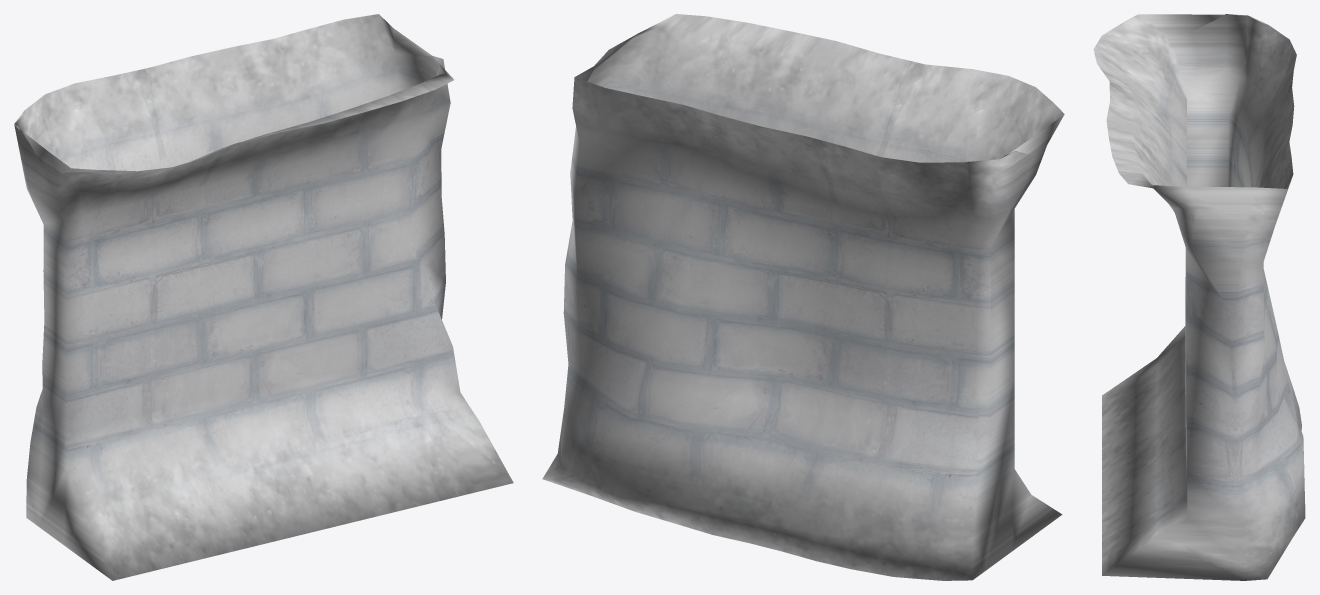
The model's file is wall.glb.
3 renders of one model, left to right at view 1: azimuth 30°, elevation 25°; view 2: azimuth 150°, elevation 25°; view 3: azimuth 270°, elevation 25°, orthographic. The views are drawn at different scales.
Parts seen in each view (by area): view 1: antarctic_wall; view 2: antarctic_wall; view 3: antarctic_wall.
Boxes of the visible parts, box(x1,y1,x2,y2) form: antarctic_wall: box(14, 14, 513, 580); antarctic_wall: box(542, 14, 1064, 580); antarctic_wall: box(1093, 14, 1305, 580).
Bounding box in the file's own units: 6.67 × 5.92 × 3.05.
1 material, 1 textured.
